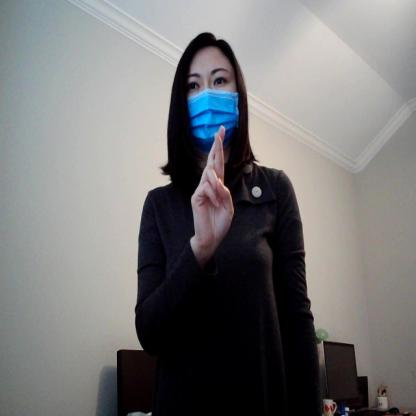right: (187, 124, 238, 250)
